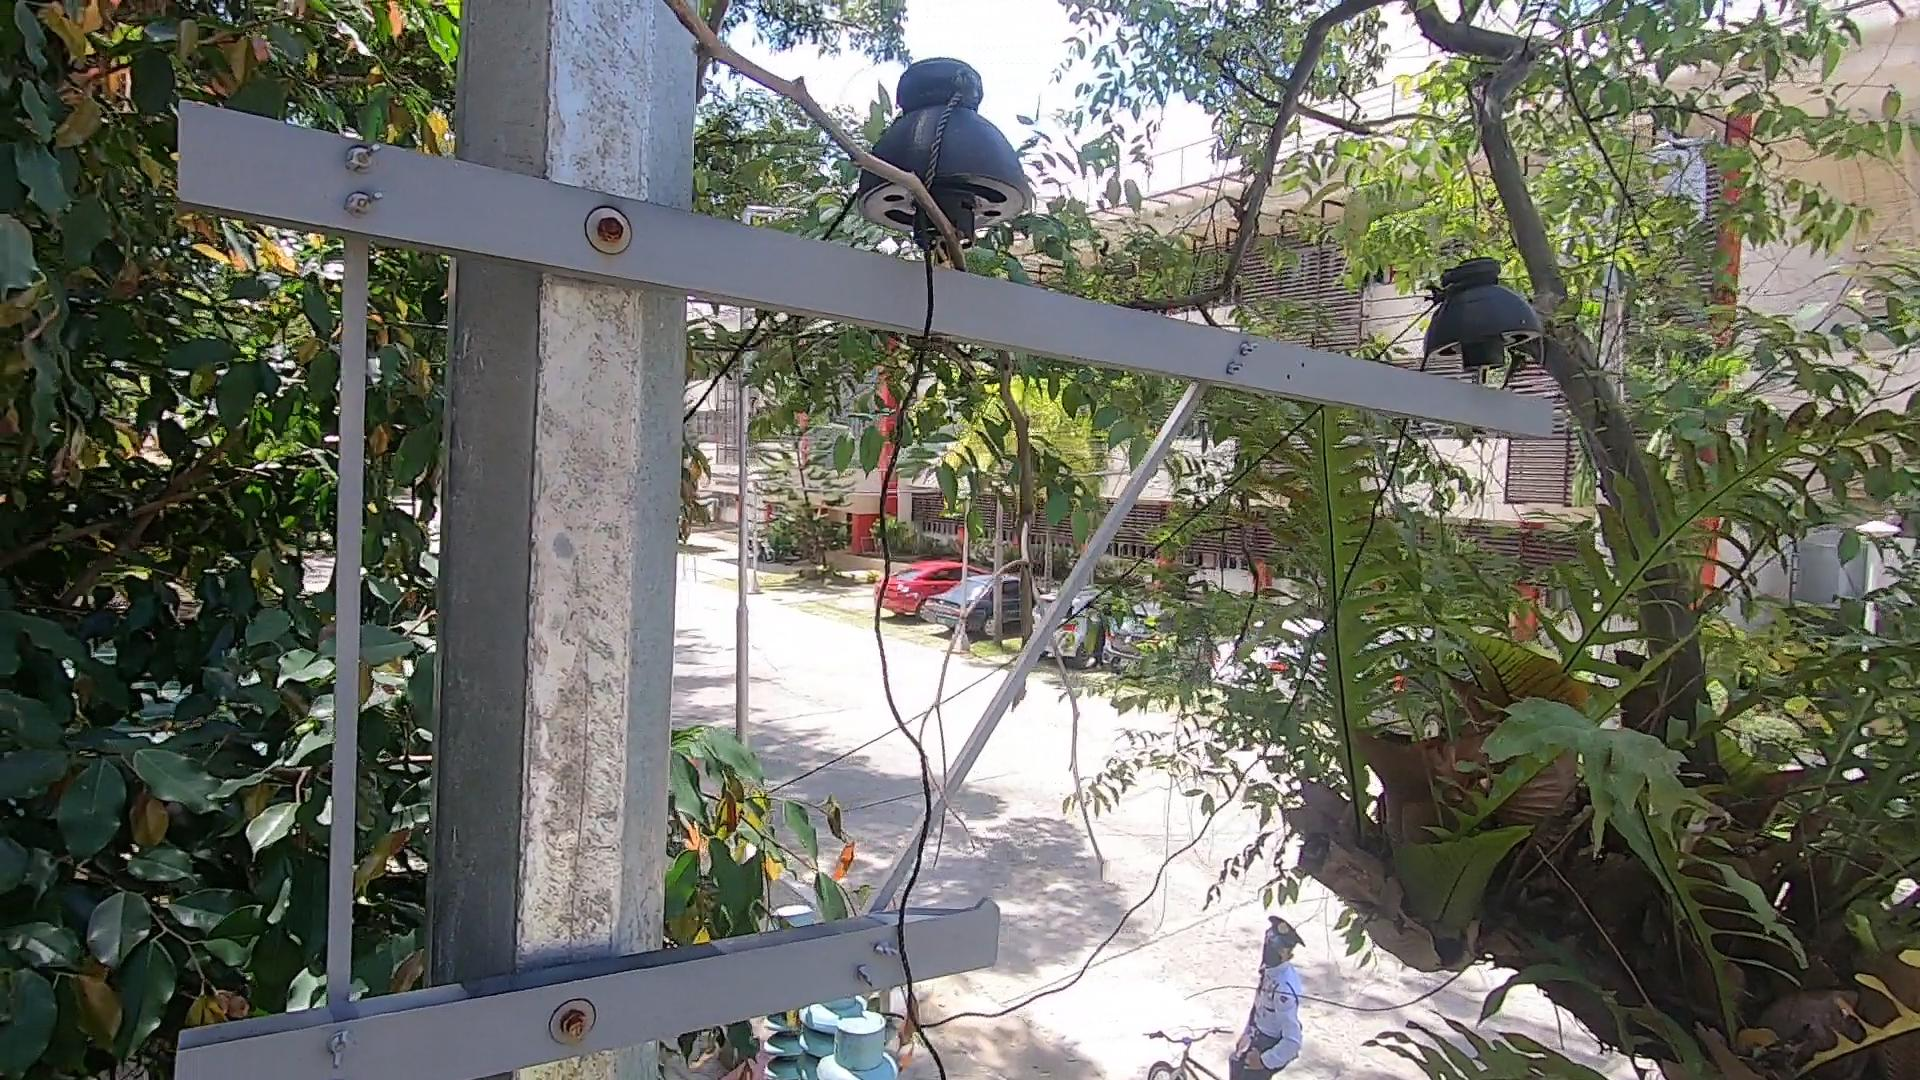branch with leaves: (771, 836, 878, 932)
tree branch: (633, 1, 1068, 661)
